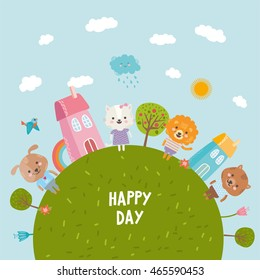animal: (205, 163, 255, 198), (165, 112, 196, 162)
building: (54, 94, 105, 156), (188, 137, 239, 178)
cat: (104, 100, 135, 152)
cloud: (108, 54, 145, 73), (16, 72, 45, 96), (193, 24, 227, 44), (84, 15, 118, 34), (67, 70, 97, 88), (148, 33, 178, 46), (34, 28, 55, 46), (231, 93, 251, 111), (167, 66, 181, 79)
dog: (15, 151, 64, 195)
flower: (215, 204, 250, 222), (13, 229, 38, 240)
sun: (192, 76, 213, 100)
tree: (136, 101, 166, 150), (7, 188, 51, 215), (216, 224, 257, 248)
